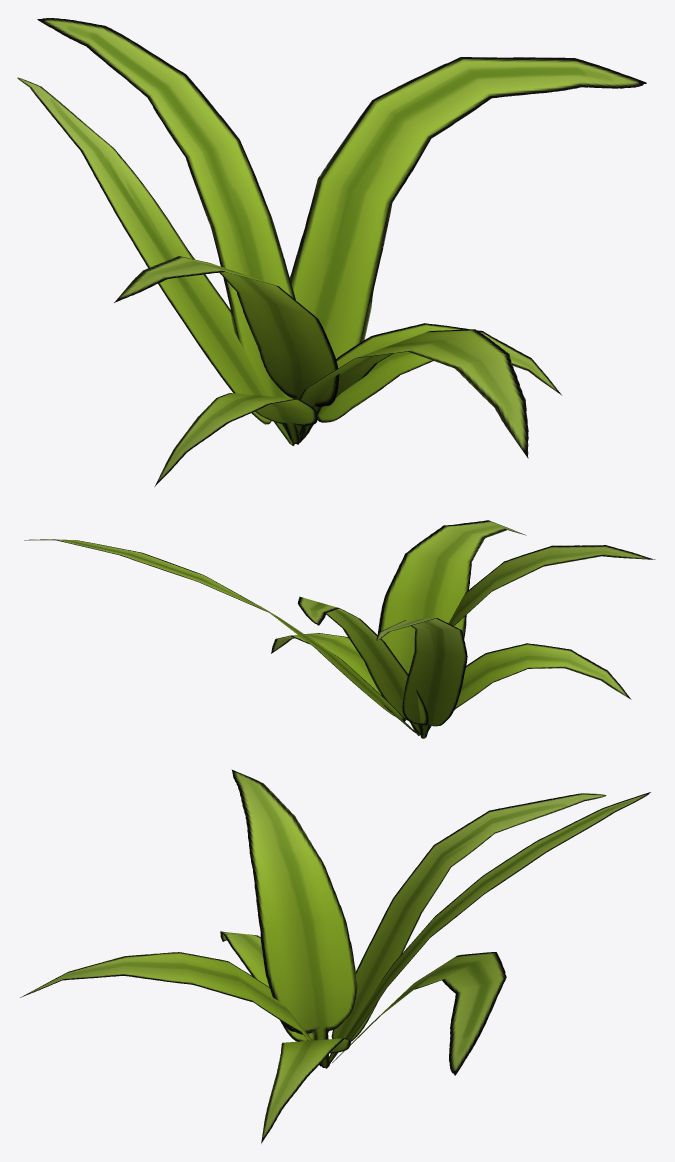
Rendered from Moonset_FBX_foliage_little_02.fbx.
3 renders of one model, top to bottom at view 1: azimuth 30°, elevation 25°; view 2: azimuth 150°, elevation 25°; view 3: azimuth 270°, elevation 25°, orthographic. The views are drawn at different scales.
Parts seen in each view (by area): view 1: Foliage_little_01; view 2: Foliage_little_01; view 3: Foliage_little_01.
Part boxes in pixels (bbox=[...]): Foliage_little_01: bbox=[17, 18, 646, 486]; Foliage_little_01: bbox=[24, 520, 655, 738]; Foliage_little_01: bbox=[20, 769, 650, 1143].
Bounding box in the file's own units: 0.9885 × 0.4207 × 0.9689.
